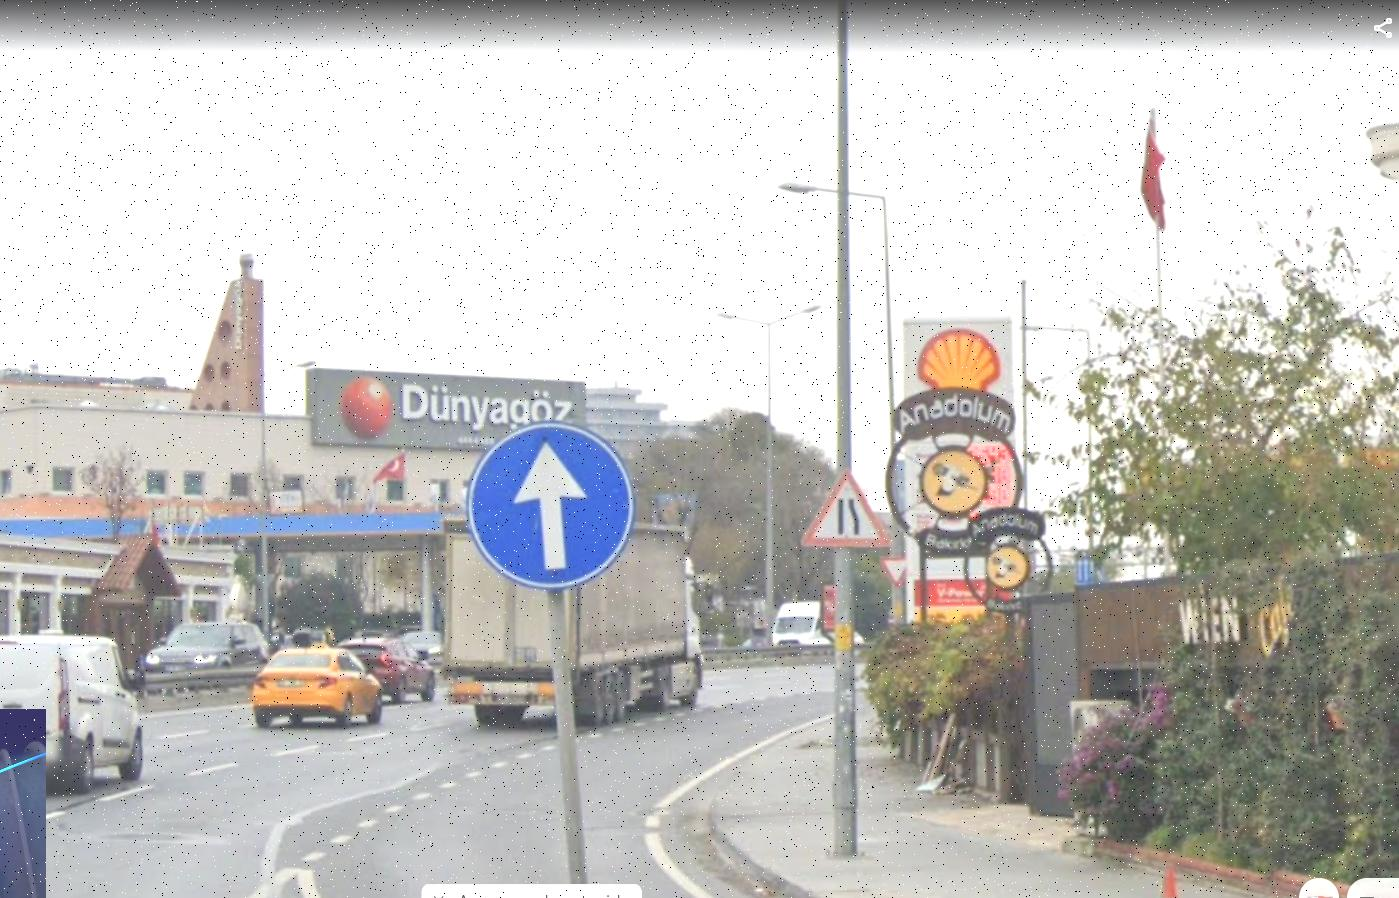forward: (476, 420, 626, 583)
